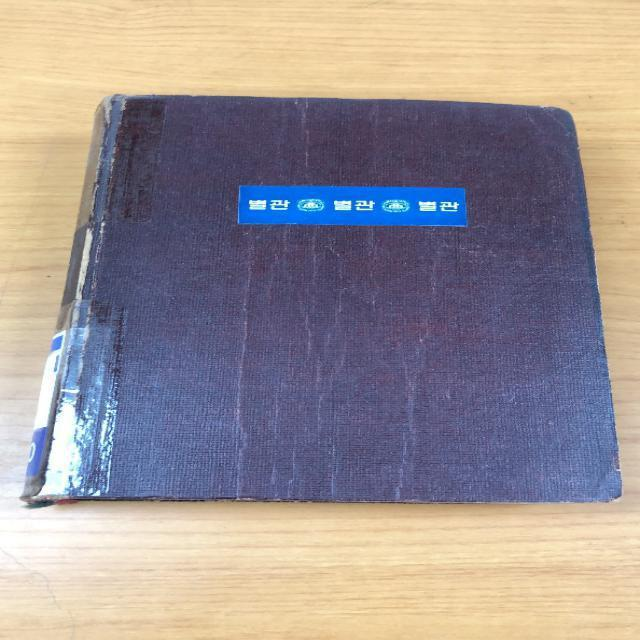Ripped: (70, 223, 105, 302), (78, 91, 131, 134)
Wornout: (597, 344, 626, 475), (134, 486, 316, 506), (584, 208, 613, 328)
